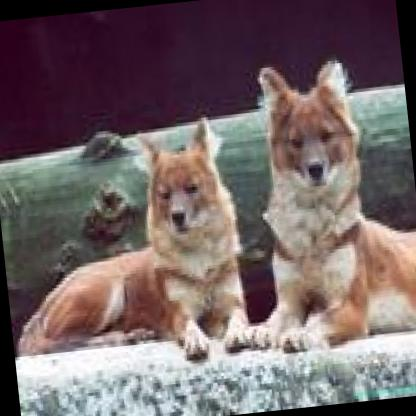dhole: (0, 105, 248, 378), (207, 47, 416, 358)
